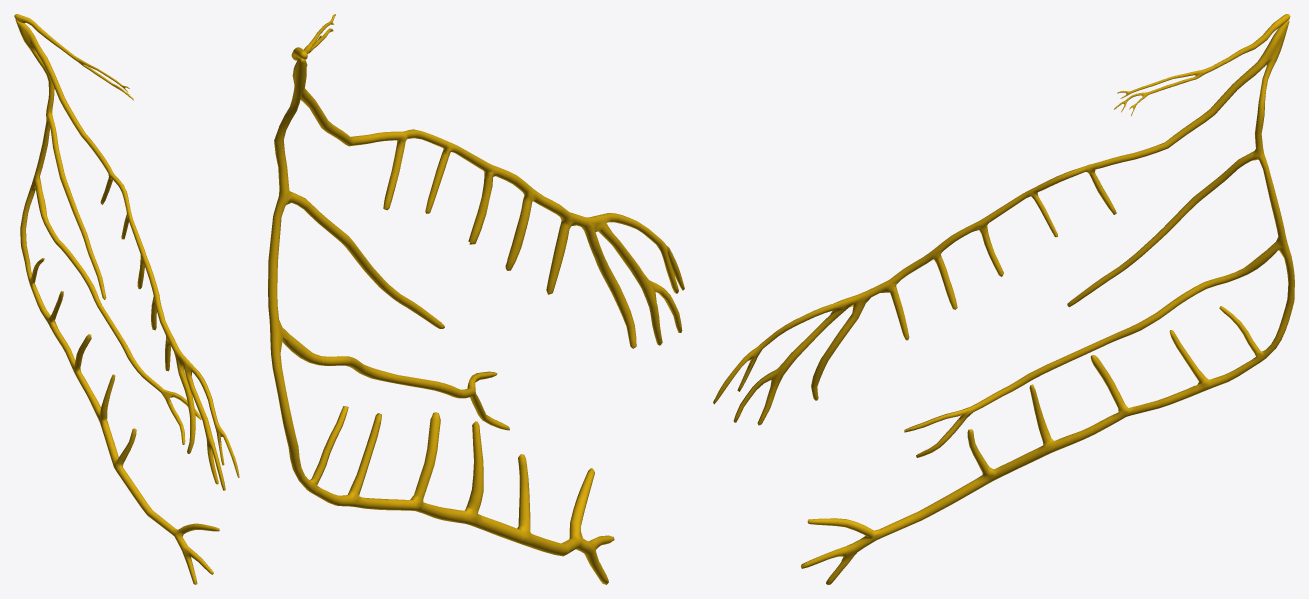
File: CN V - Trigeminal Nerve.glb
The picture shows the model from 3 angles, left to right: view 1: azimuth 30°, elevation 25°; view 2: azimuth 150°, elevation 25°; view 3: azimuth 270°, elevation 25°; orthographic projection. The views are drawn at different scales.
Visible parts, largest first — view 1: CN V - Trigeminal Nerve.glb 1, CN V - Trigeminal Nerve.glb 2; view 2: CN V - Trigeminal Nerve.glb 1; view 3: CN V - Trigeminal Nerve.glb 1, CN V - Trigeminal Nerve.glb 2.
Boxes of the visible parts, x1,y1,x2,y2 form: CN V - Trigeminal Nerve.glb 1: [15, 19, 239, 584]; CN V - Trigeminal Nerve.glb 2: [14, 14, 133, 100]; CN V - Trigeminal Nerve.glb 1: [268, 58, 684, 584]; CN V - Trigeminal Nerve.glb 1: [713, 19, 1294, 584]; CN V - Trigeminal Nerve.glb 2: [1114, 14, 1290, 115].
Size of the model in its own units: 0.0615 by 0.3645 by 0.3372.
2 materials, 2 textured.
